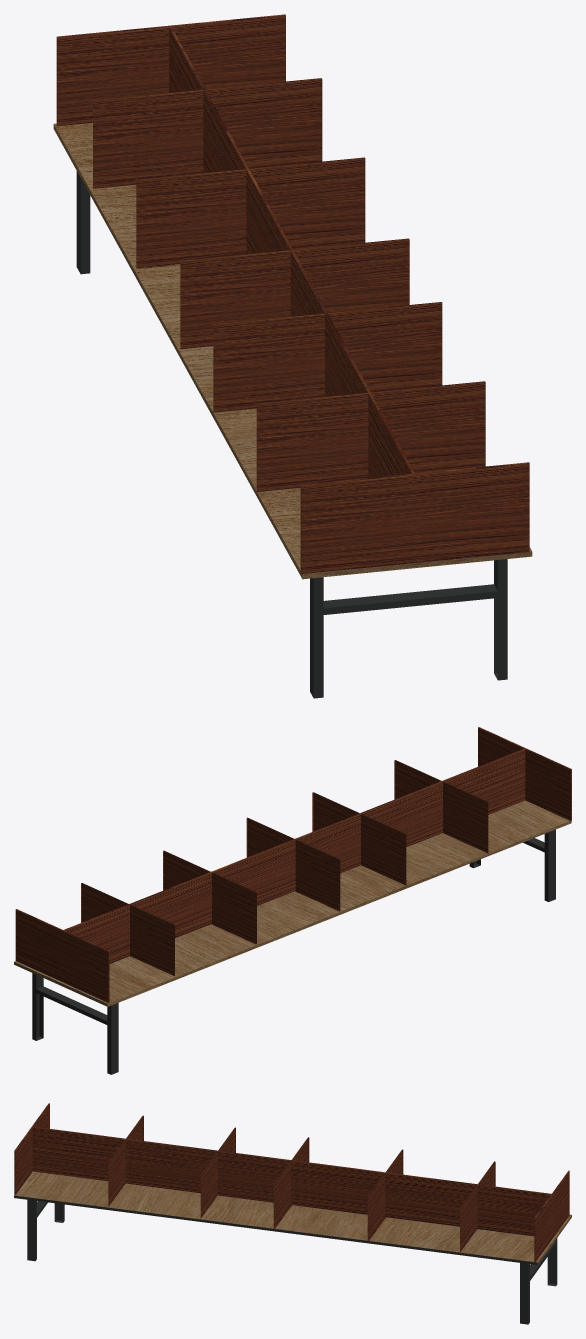
The model's file is banca_cubiculo.glb.
3 renders of one model, top to bottom at view 1: azimuth 30°, elevation 25°; view 2: azimuth 150°, elevation 25°; view 3: azimuth 270°, elevation 25°, orthographic. The views are drawn at different scales.
Visible parts, largest first — view 1: mesa principal; view 2: mesa principal; view 3: mesa principal.
Part boxes in pixels (box(x1,y1,x2,y2)): mesa principal: box(53, 14, 532, 698); mesa principal: box(14, 727, 571, 1074); mesa principal: box(14, 1103, 571, 1324).
Size of the model in its own units: 16.57 by 7.51 by 33.97.
3 materials, 2 textured.
